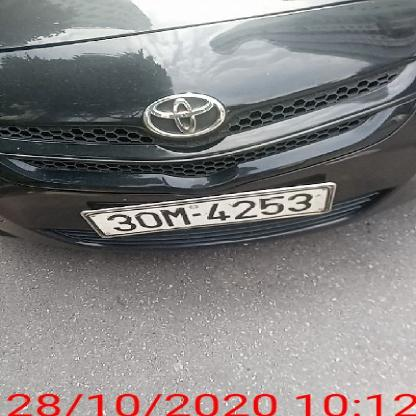biensoxe: (78, 183, 332, 240)
